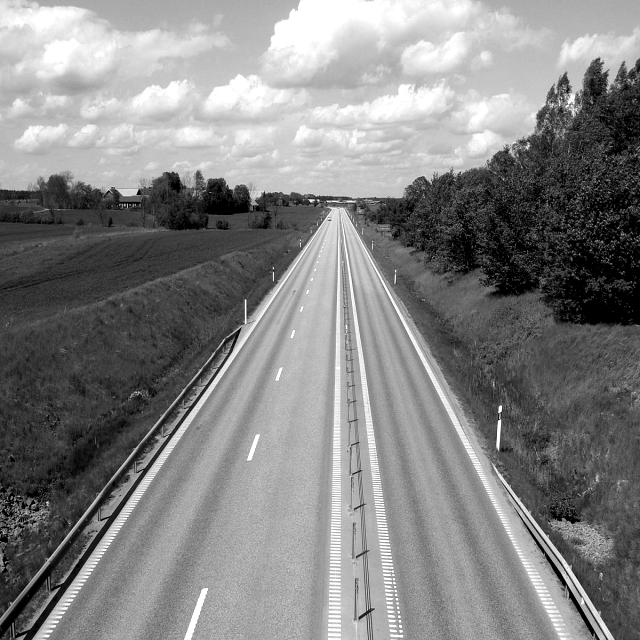cleat: (118, 154, 640, 640), (225, 130, 640, 640)
